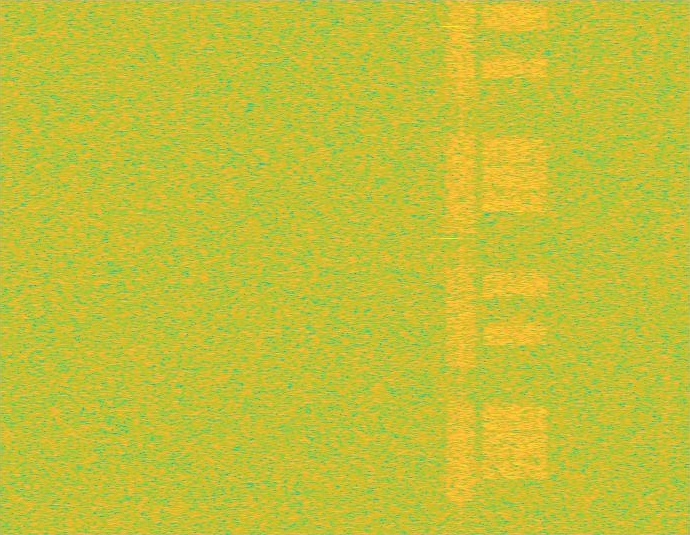5G: (444, 0, 478, 534)
DSSS: (459, 0, 463, 534)
LTE: (481, 0, 550, 534)
Radar: (444, 0, 458, 534)
